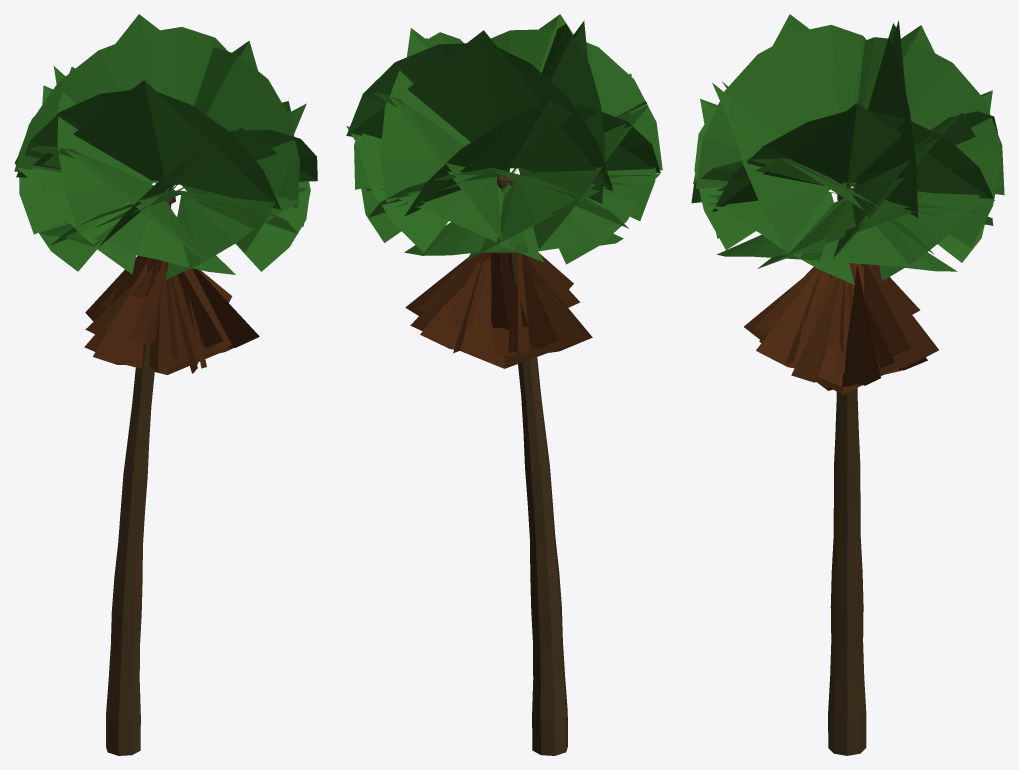
Rendered from palm_b.glb.
3 views of the same model, side by side, from view 1: azimuth 30°, elevation 25°; view 2: azimuth 150°, elevation 25°; view 3: azimuth 270°, elevation 25° (orthographic). The views are drawn at different scales.
Parts seen in each view (by area): view 1: Palm_Palmyra_B; view 2: Palm_Palmyra_B; view 3: Palm_Palmyra_B.
Boxes of the visible parts, bbox=[...] form: Palm_Palmyra_B: bbox=[14, 14, 317, 755]; Palm_Palmyra_B: bbox=[346, 14, 662, 755]; Palm_Palmyra_B: bbox=[691, 14, 1004, 755].
Size of the model in its own units: 6.13 by 15.67 by 5.94.
Materials: 1 (1 with a texture image).
